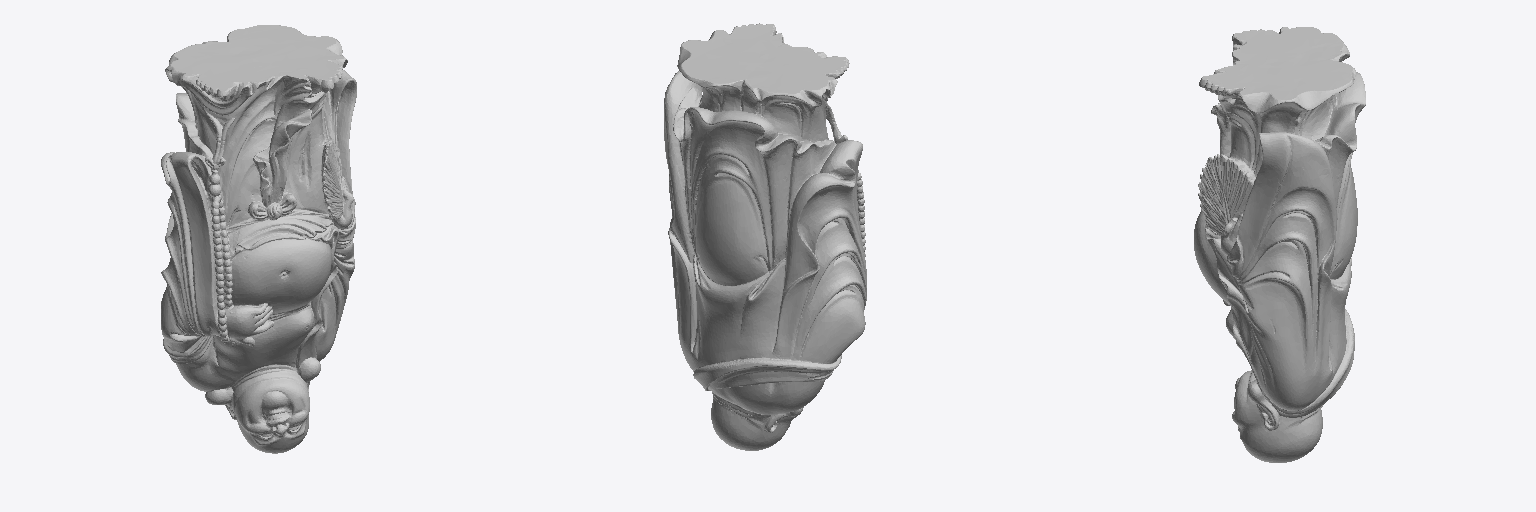
Rendered from xiaofosmall.OBJ.
The picture shows the model from 3 angles: view 1: azimuth 30°, elevation 25°; view 2: azimuth 150°, elevation 25°; view 3: azimuth 270°, elevation 25°; orthographic projection.
Visible parts, largest first — view 1: Group47867; view 2: Group47867; view 3: Group47867.
Boxes of the visible parts, x1,y1,x2,y2 form: Group47867: [161, 25, 356, 453]; Group47867: [664, 23, 866, 450]; Group47867: [1194, 27, 1365, 462].
Bounding box in the file's own units: 94.62 × 188 × 75.37.